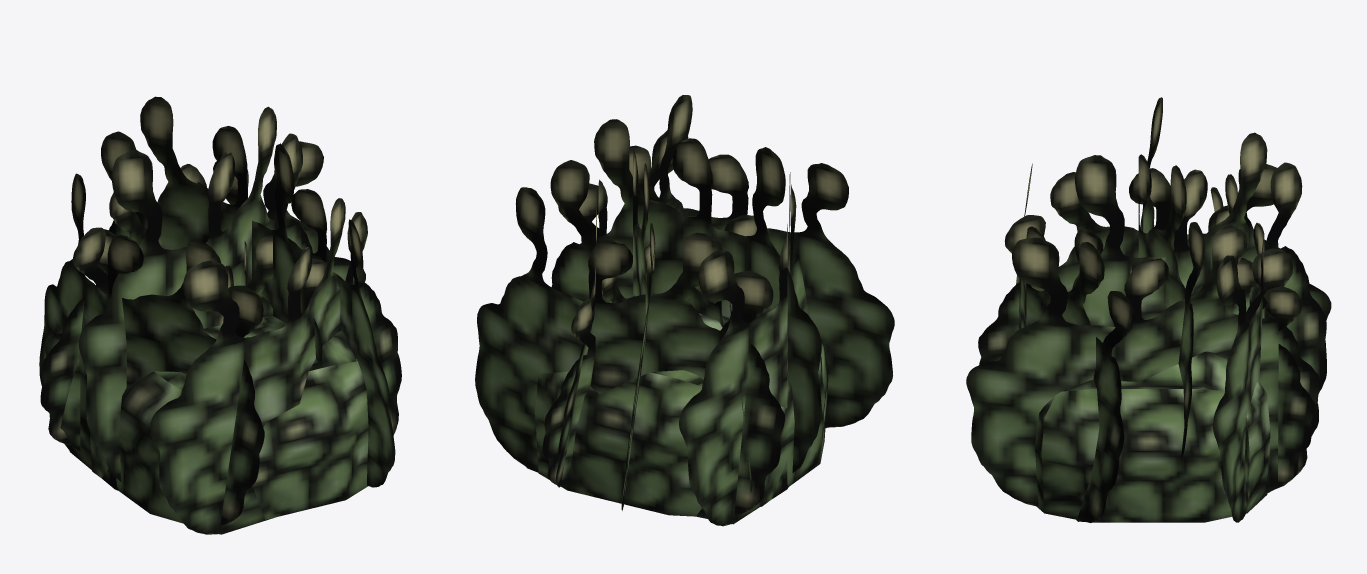
File: BerryBush.fbx
3 views of the same model, side by side, from view 1: azimuth 30°, elevation 25°; view 2: azimuth 150°, elevation 25°; view 3: azimuth 270°, elevation 25° (orthographic). The views are drawn at different scales.
Parts seen in each view (by area): view 1: BerryBush; view 2: BerryBush; view 3: BerryBush.
Boxes of the visible parts, x1,y1,x2,y2 form: BerryBush: [39, 96, 401, 534]; BerryBush: [475, 95, 894, 526]; BerryBush: [966, 97, 1331, 522].
Bounding box in the file's own units: 247 × 253 × 245.
1 material, 1 textured.
